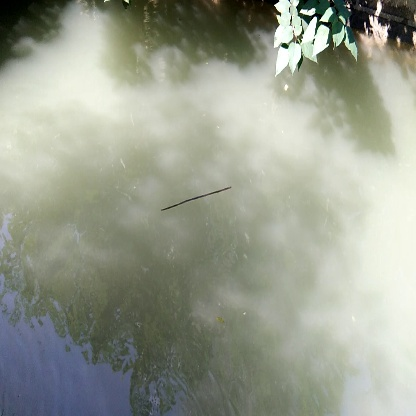branch: (157, 185, 234, 217)
